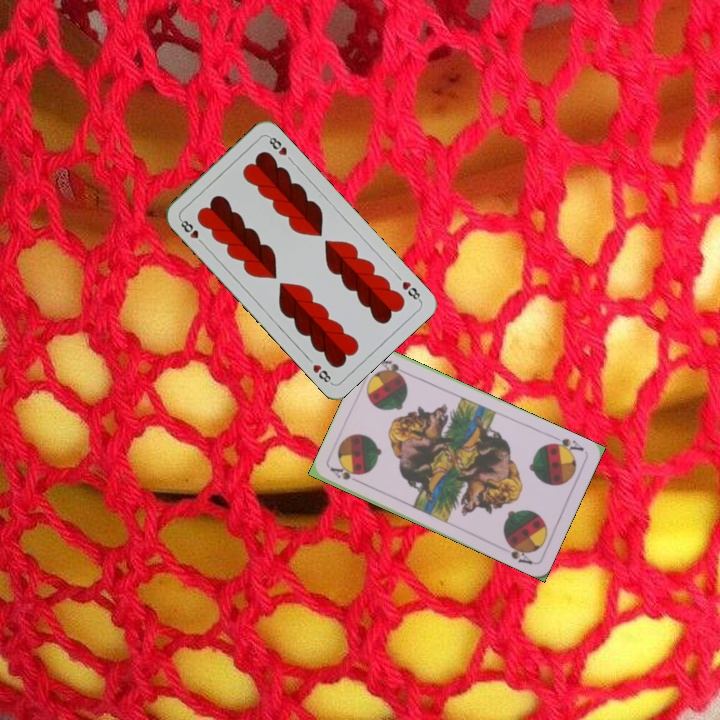H8: (176, 215, 207, 248), (398, 277, 424, 304)
SA: (545, 431, 586, 458), (326, 463, 365, 486)
